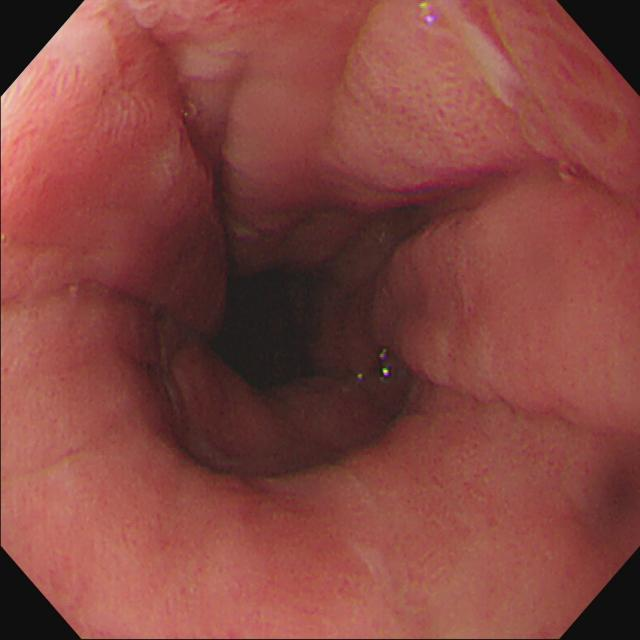A: (345, 45, 496, 167), (446, 209, 485, 359)
E: (213, 275, 319, 386)
